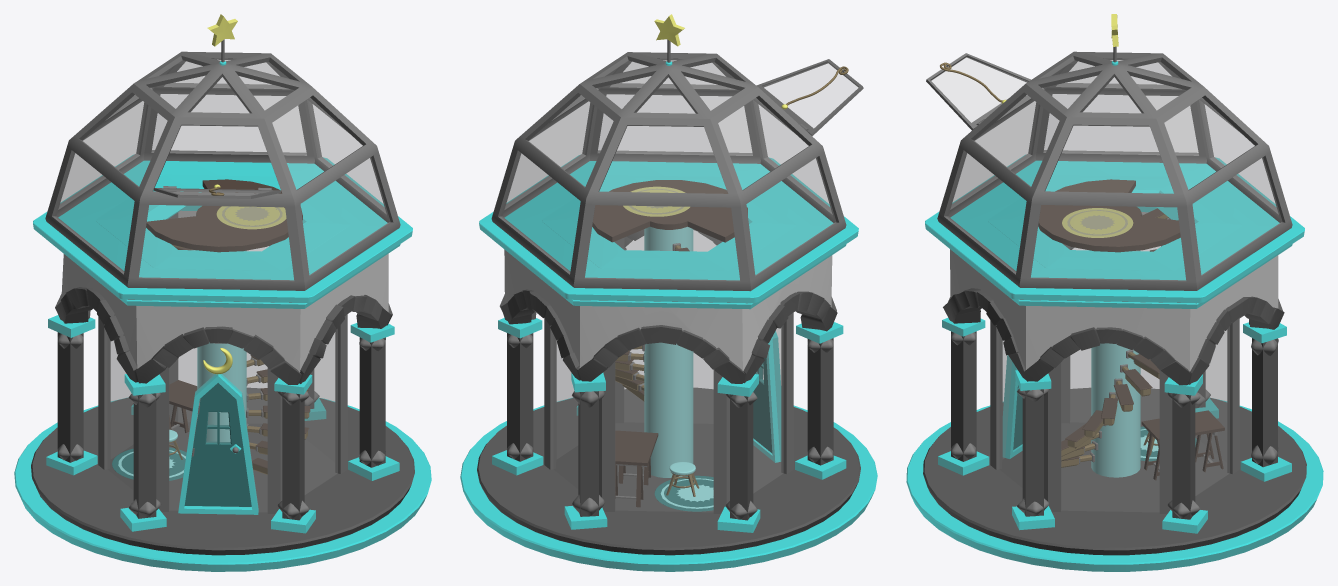
Rendered from observatoriums.gltf.
3 views of the same model, side by side, from view 1: azimuth 30°, elevation 25°; view 2: azimuth 150°, elevation 25°; view 3: azimuth 270°, elevation 25° (orthographic).
Parts seen in each view (by area): view 1: pasted__pasted__pSphere2, pasted__pasted__pSphere1, pasted__pasted__pasted__pCylinder16_pasted__pasted__pasted__, pasted__pasted__pasted__pCylinder26_pasted__pasted__pasted_., pasted__pasted__pCylinder3, pasted__pasted__pasted__pCylinder27_pasted__pasted__pasted__, pasted__pasted__pasted__pCylinder17_pasted__pasted__pasted__, pasted__pasted__pasted__pCylinder7_pasted__pasted__pasted__p, pasted__pasted__pCylinder1, pasted__pasted__pasted__pCylinder26_pasted__pasted__pasted__, pPlane3, pasted__pasted__pCylinder4 (+17 smaller); view 2: pasted__pasted__pSphere2, pasted__pasted__pSphere1, pasted__pasted__pasted__pCylinder16_pasted__pasted__pasted__, pasted__pasted__pCylinder3, pasted__pasted__pasted__pCylinder26_pasted__pasted__pasted_., pasted__pasted__pasted__pCylinder27_pasted__pasted__pasted__, pasted__pasted__pasted__pCylinder17_pasted__pasted__pasted__, pasted__pasted__pCylinder1, pasted__pasted__pasted__pCylinder7_pasted__pasted__pasted__p, pasted__pasted__pasted__pCylinder26_pasted__pasted__pasted__, pasted__pasted__pCylinder2, pasted__pasted__pCylinder4 (+19 smaller); view 3: pasted__pasted__pSphere2, pasted__pasted__pSphere1, pasted__pasted__pasted__pCylinder16_pasted__pasted__pasted__, pasted__pasted__pCylinder3, pasted__pasted__pasted__pCylinder26_pasted__pasted__pasted_., pasted__pasted__pasted__pCylinder27_pasted__pasted__pasted__, pasted__pasted__pasted__pCylinder17_pasted__pasted__pasted__, pasted__pasted__pCylinder1, pasted__pasted__pasted__pCylinder7_pasted__pasted__pasted__p, pasted__pasted__pasted__pCylinder26_pasted__pasted__pasted__, pasted__pasted__pCylinder2, pasted__pasted__pCylinder4 (+14 smaller).
Boxes of the visible parts, bbox=[...] form: pasted__pasted__pSphere2: bbox=[55, 58, 390, 280]; pasted__pasted__pSphere1: bbox=[45, 51, 400, 290]; pasted__pasted__pasted__pCylinder16_pasted__pasted__pasted__: bbox=[31, 387, 414, 555]; pasted__pasted__pasted__pCylinder26_pasted__pasted__pasted_.: bbox=[33, 154, 412, 308]; pasted__pasted__pCylinder3: bbox=[107, 211, 337, 511]; pasted__pasted__pasted__pCylinder27_pasted__pasted__pasted__: bbox=[61, 210, 388, 372]; pasted__pasted__pasted__pCylinder17_pasted__pasted__pasted__: bbox=[14, 397, 431, 571]; pasted__pasted__pasted__pCylinder7_pasted__pasted__pasted__p: bbox=[55, 245, 392, 384]; pasted__pasted__pCylinder1: bbox=[98, 212, 347, 513]; pasted__pasted__pasted__pCylinder26_pasted__pasted__pasted__: bbox=[96, 174, 349, 270]; pPlane3: bbox=[184, 383, 251, 506]; pasted__pasted__pCylinder4: bbox=[146, 179, 302, 252]; pasted__pasted__pSphere2: bbox=[501, 58, 836, 280]; pasted__pasted__pSphere1: bbox=[491, 52, 846, 291]; pasted__pasted__pasted__pCylinder16_pasted__pasted__pasted__: bbox=[477, 387, 860, 555]; pasted__pasted__pCylinder3: bbox=[553, 230, 783, 511]; pasted__pasted__pasted__pCylinder26_pasted__pasted__pasted_.: bbox=[479, 155, 858, 309]; pasted__pasted__pasted__pCylinder27_pasted__pasted__pasted__: bbox=[504, 249, 832, 371]; pasted__pasted__pasted__pCylinder17_pasted__pasted__pasted__: bbox=[460, 397, 877, 571]; pasted__pasted__pCylinder1: bbox=[544, 238, 793, 513]; pasted__pasted__pasted__pCylinder7_pasted__pasted__pasted__p: bbox=[499, 229, 837, 383]; pasted__pasted__pasted__pCylinder26_pasted__pasted__pasted__: bbox=[542, 175, 795, 270]; pasted__pasted__pCylinder2: bbox=[644, 226, 693, 477]; pasted__pasted__pCylinder4: bbox=[592, 180, 747, 242]; pasted__pasted__pSphere2: bbox=[947, 58, 1282, 280]; pasted__pasted__pSphere1: bbox=[937, 51, 1292, 290]; pasted__pasted__pasted__pCylinder16_pasted__pasted__pasted__: bbox=[923, 387, 1306, 555]; pasted__pasted__pCylinder3: bbox=[999, 212, 1229, 511]; pasted__pasted__pasted__pCylinder26_pasted__pasted__pasted_.: bbox=[925, 154, 1304, 308]; pasted__pasted__pasted__pCylinder27_pasted__pasted__pasted__: bbox=[950, 212, 1278, 371]; pasted__pasted__pasted__pCylinder17_pasted__pasted__pasted__: bbox=[906, 399, 1323, 571]; pasted__pasted__pCylinder1: bbox=[990, 218, 1239, 513]; pasted__pasted__pasted__pCylinder7_pasted__pasted__pasted__p: bbox=[943, 214, 1284, 385]; pasted__pasted__pasted__pCylinder26_pasted__pasted__pasted__: bbox=[988, 174, 1241, 270]; pasted__pasted__pCylinder2: bbox=[1091, 250, 1140, 477]; pasted__pasted__pCylinder4: bbox=[1038, 179, 1180, 252].
Size of the model in its own units: 8.89 by 11.09 by 8.89.
